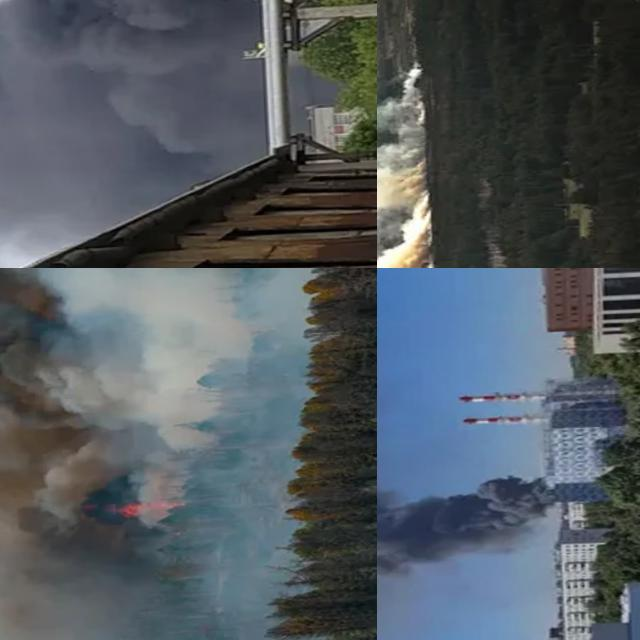smoke: (0, 0, 245, 261), (0, 268, 170, 640), (377, 423, 564, 640), (377, 60, 448, 268)
